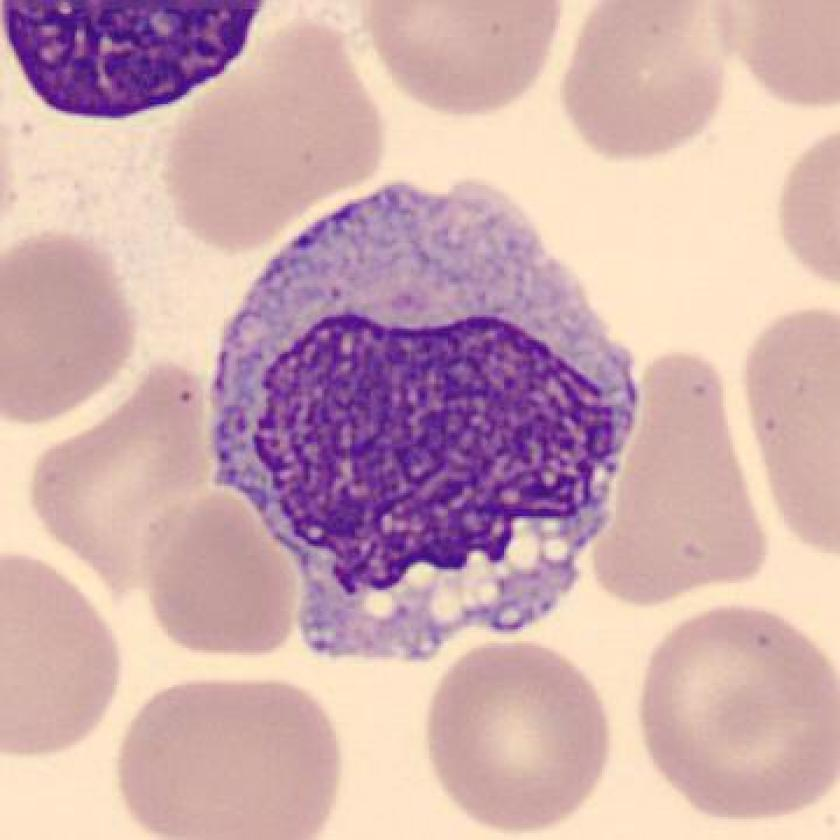monocyte: (197, 161, 650, 681)
